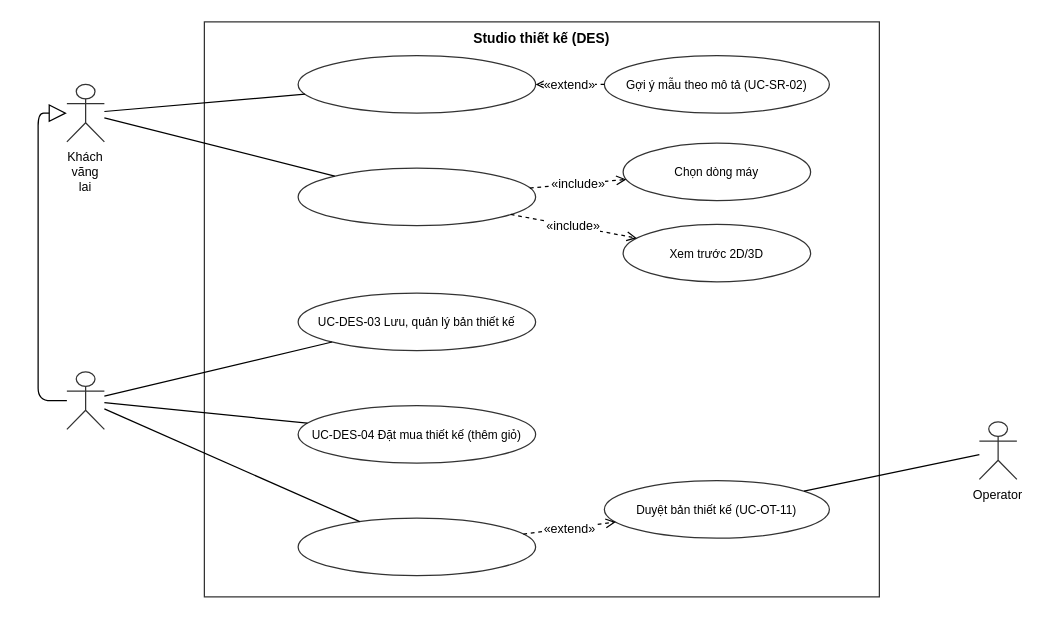
This 1044x619 diagram has some shape labels left out. The shapes that lost their labels are listed below. From the top down, each one's centre as x and y in pixels, then its label:
pixel 416 83: UC-DES-01 Khám phá, chọn mẫu thiết kế
pixel 416 196: UC-DES-02 Thiết kế ốp cá nhân hóa
pixel 85 400: Khách hàng
pixel 416 546: UC-DES-05 Xử lý thiết kế bị từ chối
